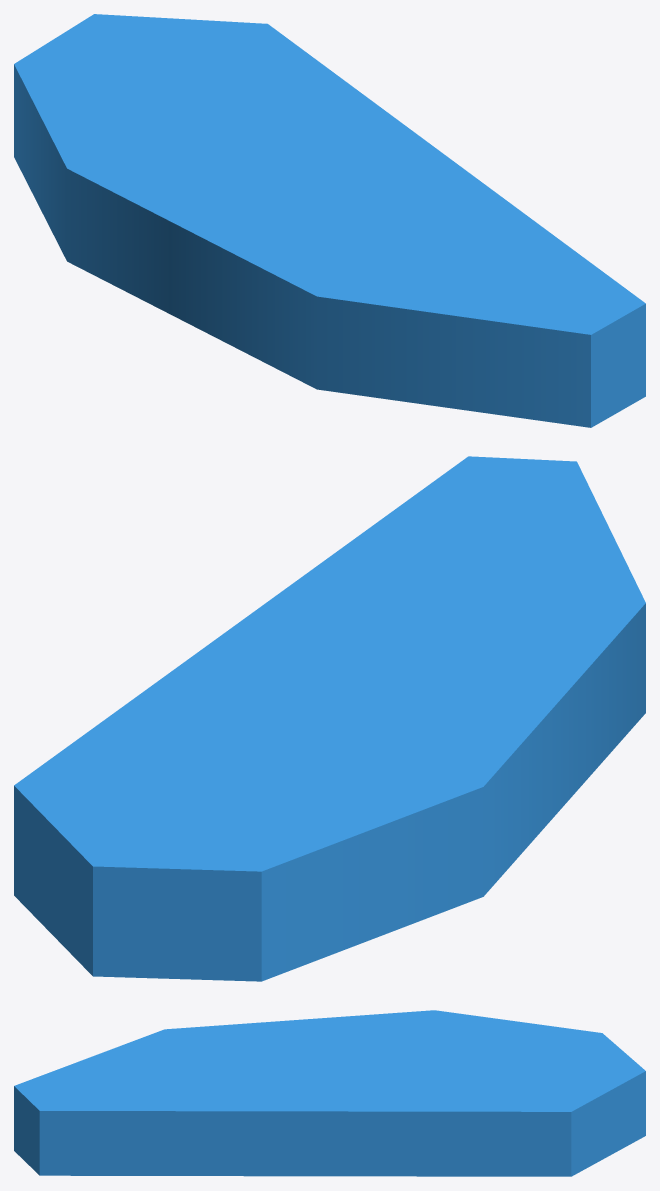
Rendered from Rebar_Wall_05_Col.FBX.
3 renders of one model, top to bottom at view 1: azimuth 30°, elevation 25°; view 2: azimuth 150°, elevation 25°; view 3: azimuth 270°, elevation 25°, orthographic. The views are drawn at different scales.
Visible parts, largest first — view 1: Rebar_Wall_05_Col; view 2: Rebar_Wall_05_Col; view 3: Rebar_Wall_05_Col.
Boxes of the visible parts, box(x1,y1,x2,y2) form: Rebar_Wall_05_Col: box(14, 14, 645, 427); Rebar_Wall_05_Col: box(14, 456, 645, 981); Rebar_Wall_05_Col: box(14, 1010, 645, 1176).
Bounding box in the file's own units: 72.84 × 21.66 × 191.
